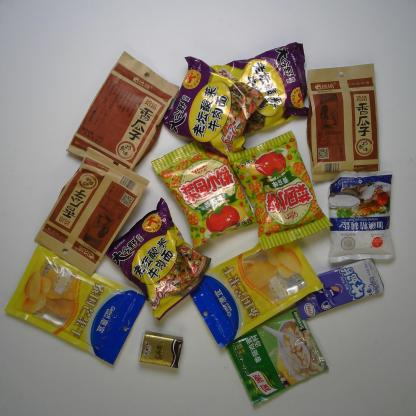Candy: (291, 255, 386, 321)
Dried Food: (33, 145, 150, 277), (63, 49, 181, 175), (306, 61, 382, 182)
Dried Fruit: (5, 241, 148, 368), (181, 231, 326, 349)
Instant Noodles: (105, 194, 212, 321), (161, 54, 265, 158), (210, 38, 310, 139)
Puffed Food: (227, 127, 334, 252), (152, 128, 259, 251)
Seasoner: (222, 304, 330, 406), (330, 173, 396, 263)
Tissue: (136, 328, 185, 370)
